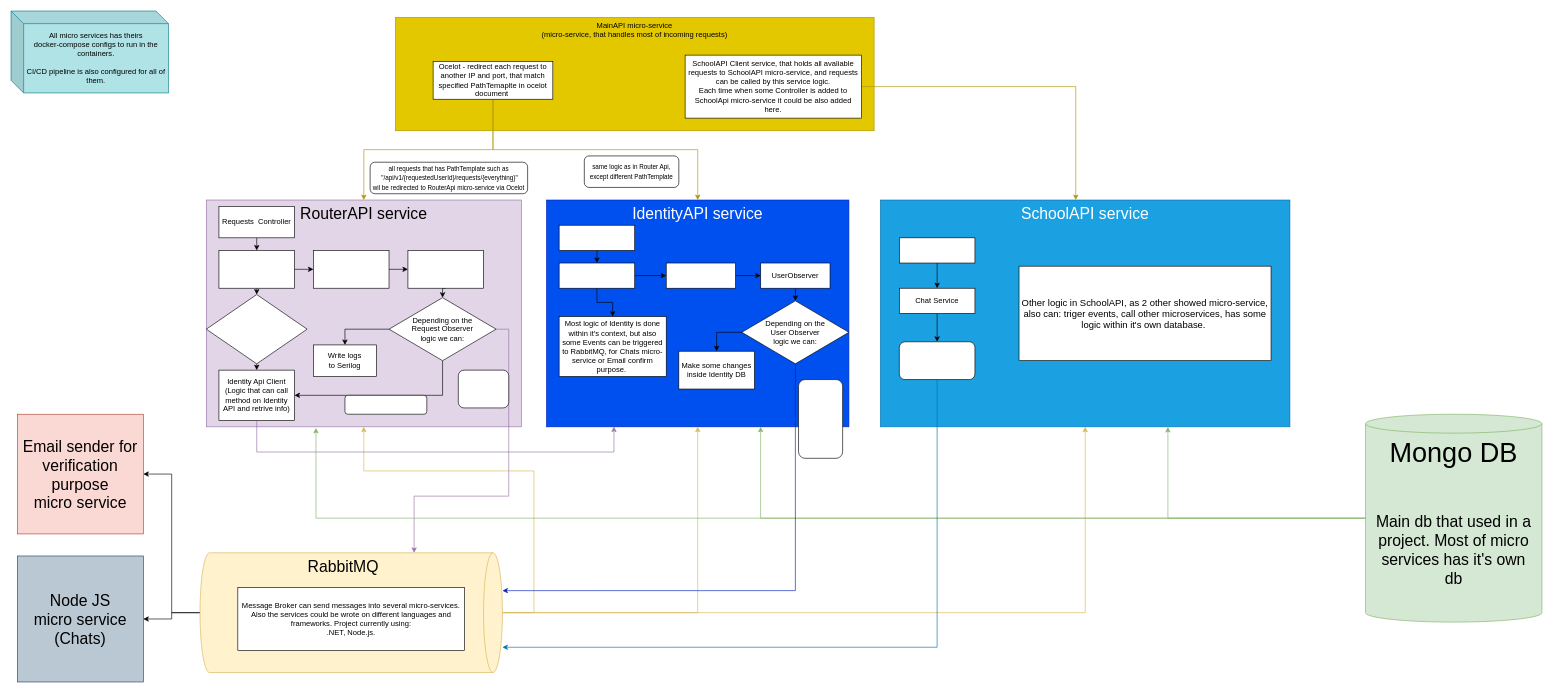
This 1553x693 diagram has some shape labels left out. The shapes that lost their labels are listed below. From the top down, each one's centre as x and y in pixels, then its label:
point 596,237: Users Controller
point 937,250: System Controller
point 256,269: Requests Service
point 351,269: Request EventHandler
point 445,269: Request Observer
point 596,275: Users Service
point 701,275: UserEventHandler
point 256,329: If some additional info required for service
point 937,360: Message to RabbitMQ to create new chat in Chat micro-service
point 385,404: Make some actions inside Identity service
point 483,388: Write message to RabbitMQ
point 820,418: Send messages to chat micro-service or Email verification service
